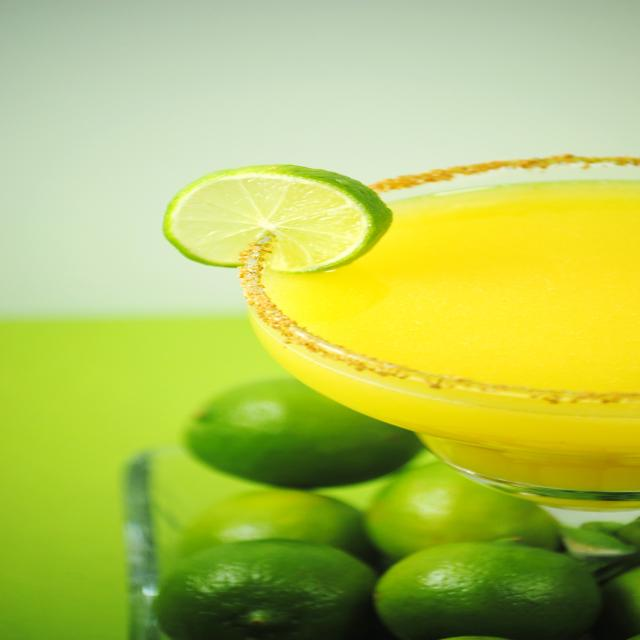lemon: (124, 153, 408, 295), (182, 351, 404, 493), (121, 546, 382, 640), (382, 539, 596, 640)
